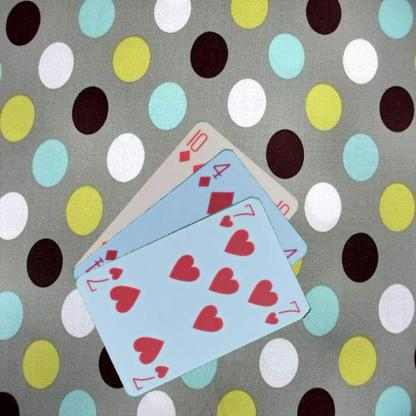10d: (176, 126, 209, 164)
4d: (194, 160, 232, 188)
7h: (216, 200, 257, 229), (130, 362, 170, 391)
